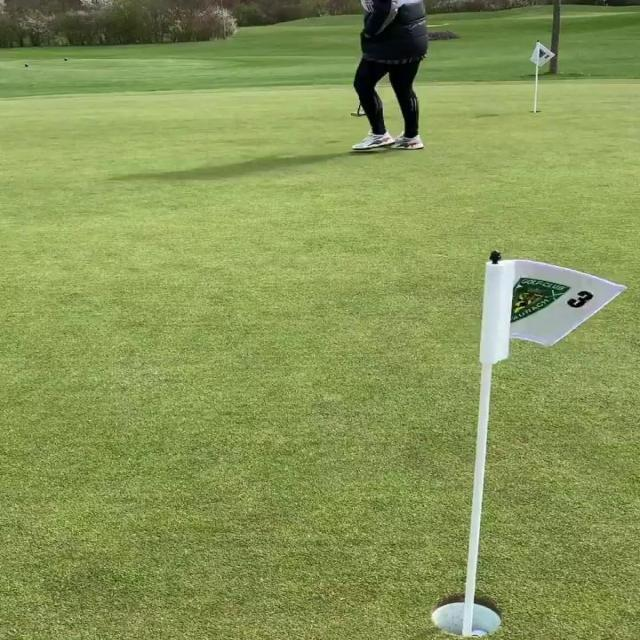ClubHead: (350, 111, 366, 117)
GolfBall: (471, 630, 487, 636)
